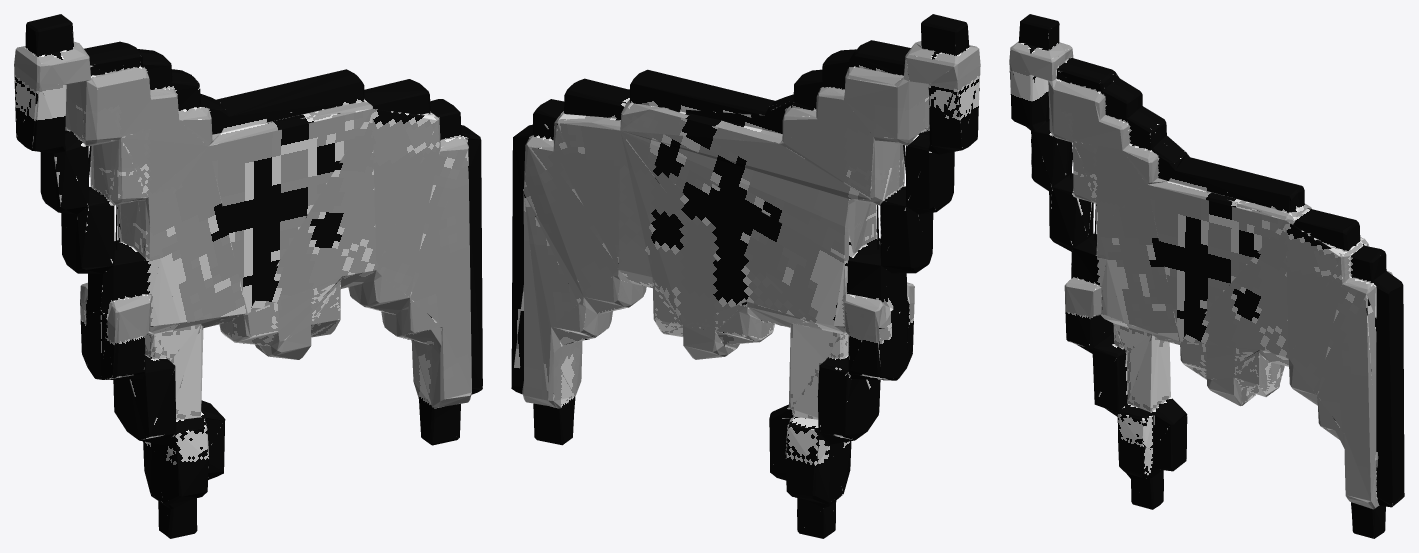
3 renders of one model, left to right at view 1: azimuth 30°, elevation 25°; view 2: azimuth 150°, elevation 25°; view 3: azimuth 330°, elevation 25°, orthographic. The views are drawn at different scales.
Visible parts, largest first — view 1: OBJ11f; view 2: OBJ11f; view 3: OBJ11f.
Boxes of the visible parts, box(x1,y1,x2,y2) form: OBJ11f: box(14, 14, 482, 538); OBJ11f: box(511, 14, 980, 538); OBJ11f: box(1009, 14, 1404, 538).
Bounding box in the file's own units: 0.2987 × 0.3428 × 0.0433.
1 material, 1 textured.
